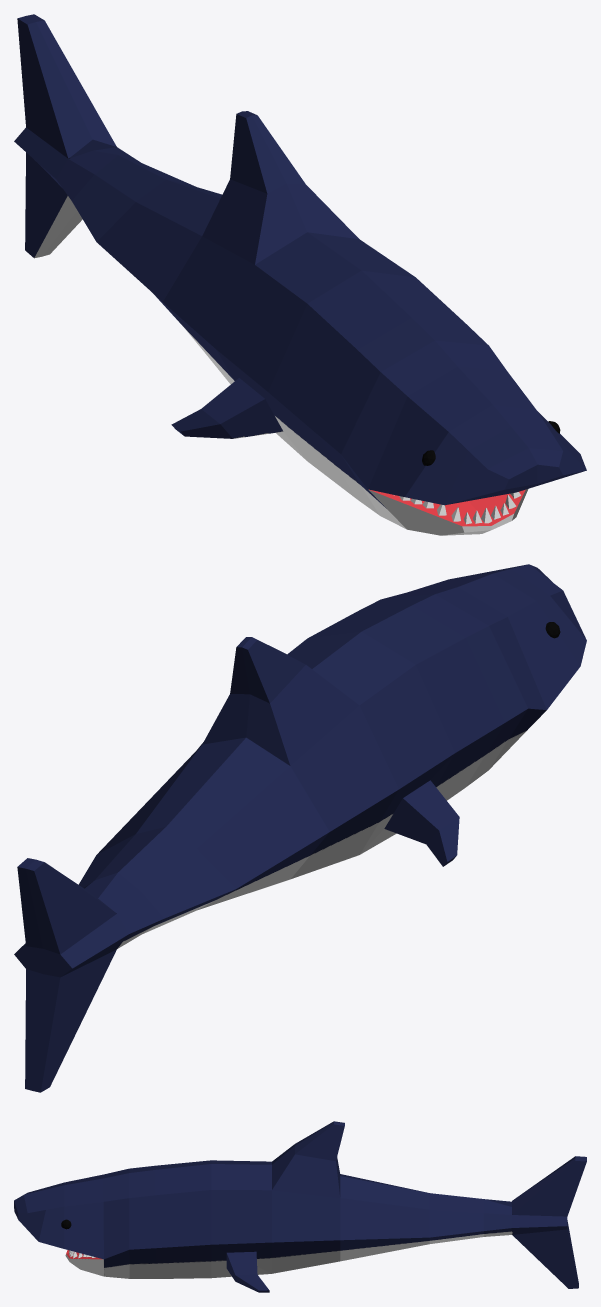
The model's file is shark.glb.
The picture shows the model from 3 angles, top to bottom: view 1: azimuth 30°, elevation 25°; view 2: azimuth 150°, elevation 25°; view 3: azimuth 270°, elevation 25°; orthographic projection. The views are drawn at different scales.
Visible parts, largest first — view 1: Object_2; view 2: Object_2; view 3: Object_2.
Boxes of the visible parts, x1,y1,x2,y2 form: Object_2: [14, 14, 586, 535]; Object_2: [14, 564, 586, 1092]; Object_2: [14, 1121, 586, 1292].
Size of the model in its own units: 1.18 by 1.21 by 3.8.
Materials: 1 (1 with a texture image).
